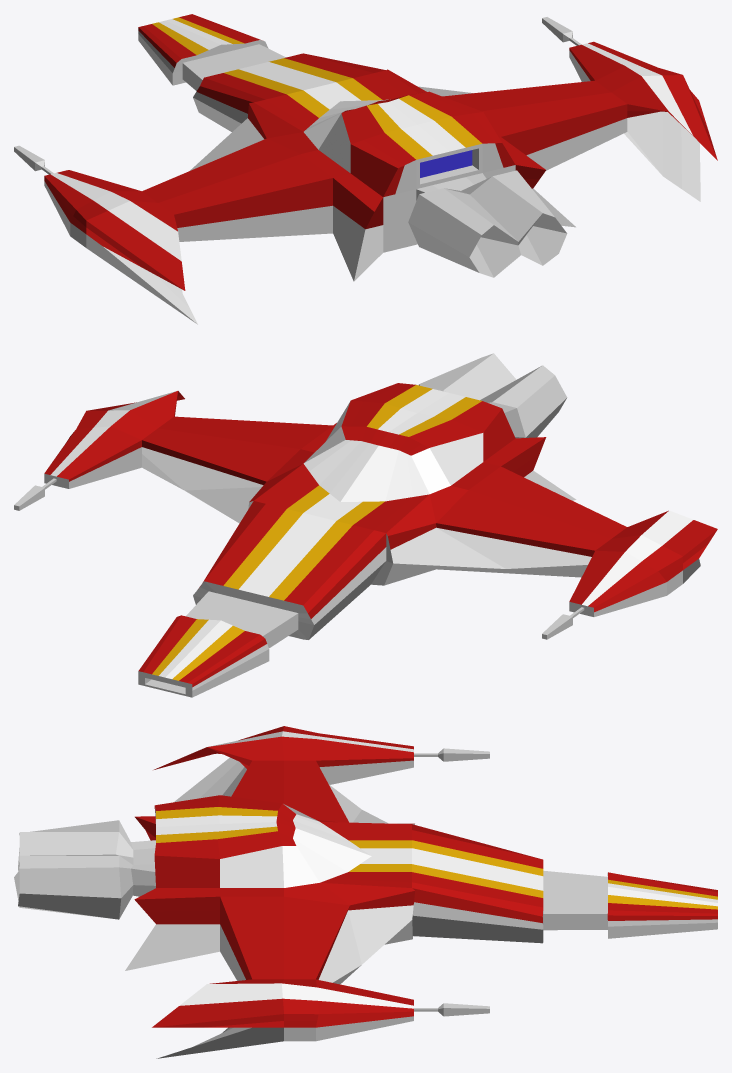
Rendered from SpaceShip2 1.fbx.
The picture shows the model from 3 angles, top to bottom: view 1: azimuth 30°, elevation 25°; view 2: azimuth 150°, elevation 25°; view 3: azimuth 270°, elevation 25°; orthographic projection.
Parts seen in each view (by area): view 1: Cube; view 2: Cube; view 3: Cube.
Part boxes in pixels (<box>): Cube: <box>14,14,717,324</box>; Cube: <box>14,353,717,697</box>; Cube: <box>14,726,717,1058</box>.
Size of the model in its own units: 455 by 86.02 by 470.
